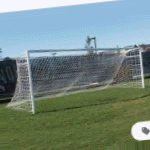goals: (6, 45, 147, 114)
